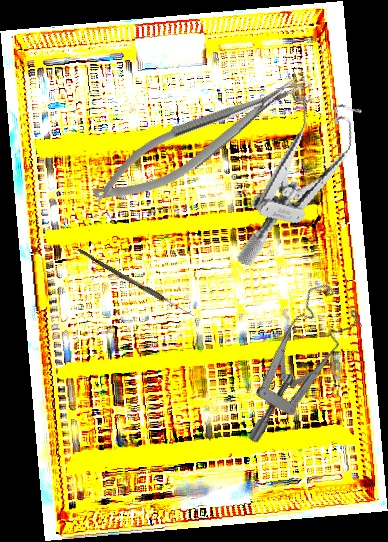Needle Holder: (83, 68, 311, 217)
Speculum: (198, 273, 386, 447), (235, 71, 368, 283)
Surgical Spoon: (75, 248, 196, 318)
